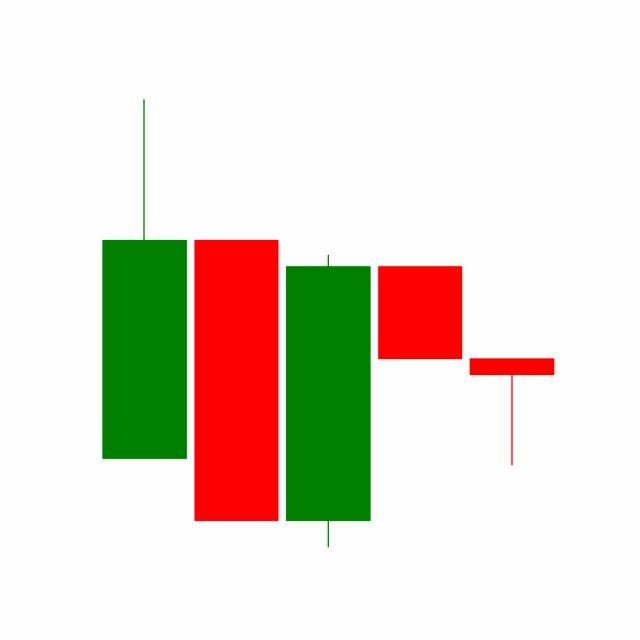Hammer: (466, 357, 559, 467)
